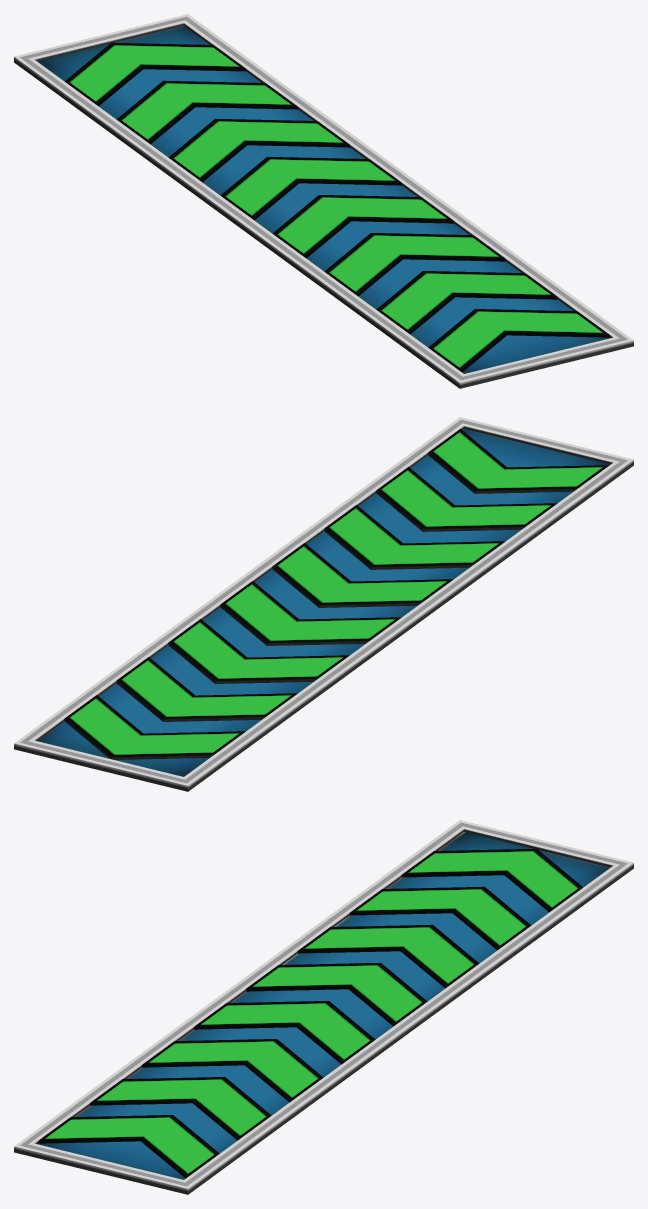
The model's file is AccelBoard01.FBX.
3 views of the same model, one above another, from view 1: azimuth 30°, elevation 25°; view 2: azimuth 150°, elevation 25°; view 3: azimuth 330°, elevation 25° (orthographic).
Visible parts, largest first — view 1: AccelBoard01; view 2: AccelBoard01; view 3: AccelBoard01.
Part boxes in pixels (left/top/right/bottom): AccelBoard01: left=14, top=14, right=633, bottom=388; AccelBoard01: left=14, top=417, right=633, bottom=791; AccelBoard01: left=14, top=820, right=633, bottom=1194.
Size of the model in its own units: 80 by 2.61 by 355.
